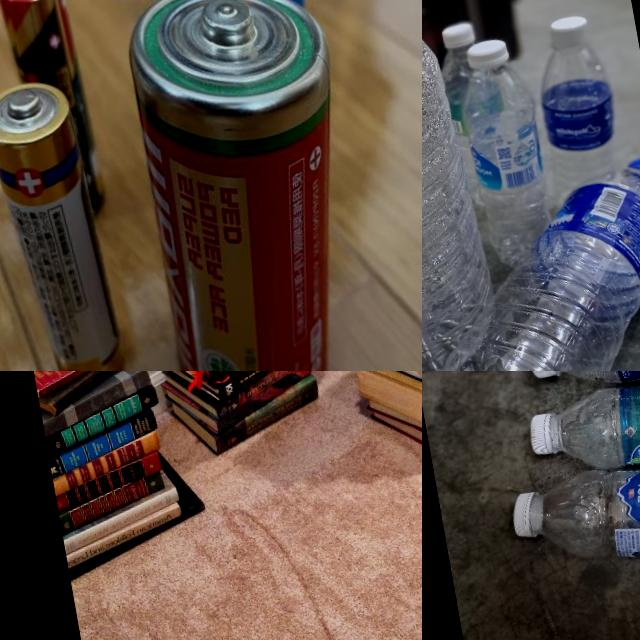bateria: (106, 0, 395, 371), (0, 71, 137, 371), (0, 0, 110, 222), (238, 0, 319, 16)
garrafa plástica: (422, 163, 640, 371), (422, 0, 506, 371), (459, 57, 561, 268), (520, 431, 640, 602), (530, 36, 629, 212), (545, 371, 640, 489), (438, 45, 502, 206)
papel: (27, 371, 214, 595), (137, 371, 339, 463)
tampa plástica: (508, 491, 547, 541), (464, 37, 510, 70), (526, 412, 560, 456), (550, 13, 588, 42), (440, 21, 476, 48), (627, 154, 640, 185), (524, 371, 554, 380)
